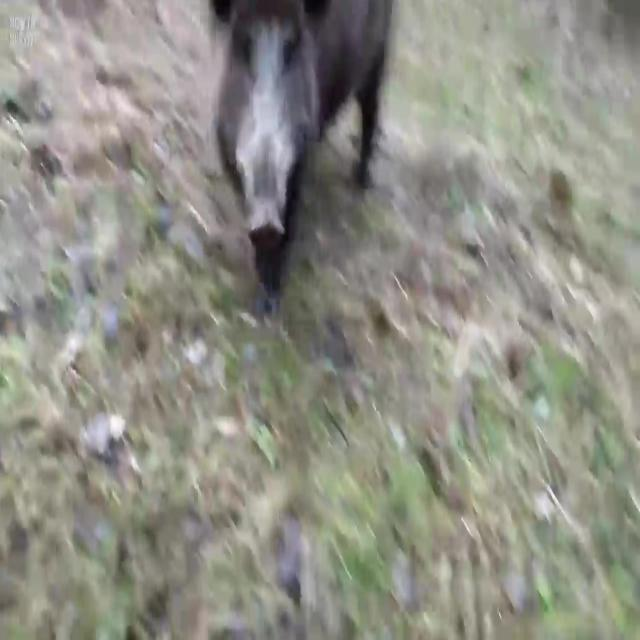pig: (187, 0, 442, 290)
